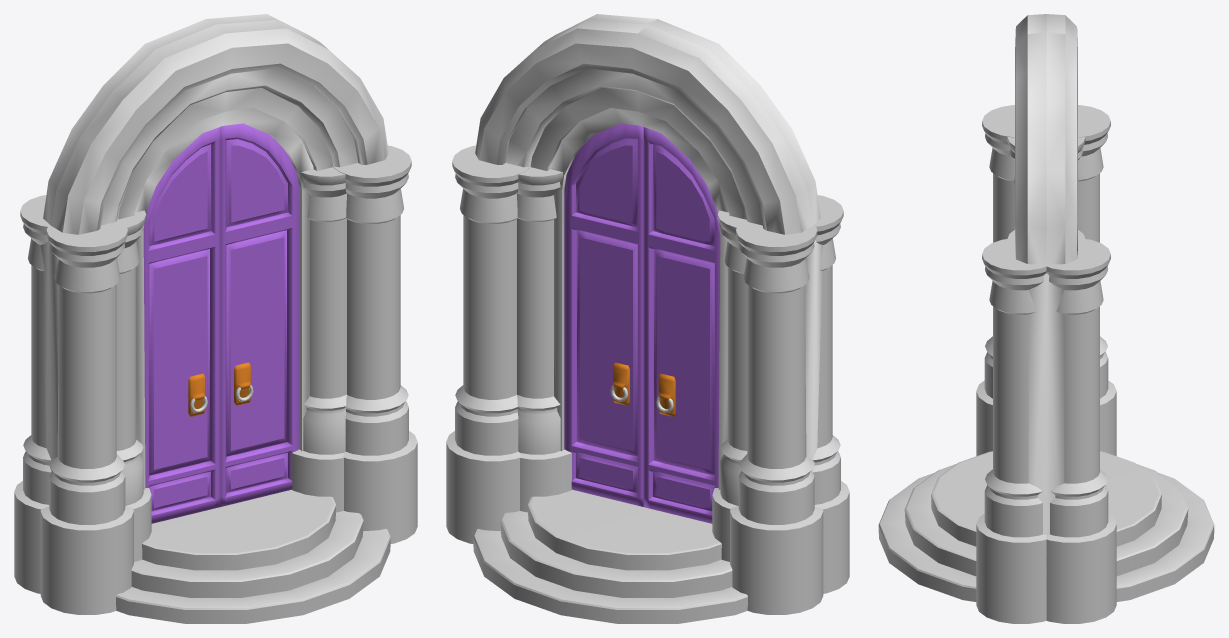
The model's file is Door_Arch_B.fbx.
3 renders of one model, left to right at view 1: azimuth 30°, elevation 25°; view 2: azimuth 150°, elevation 25°; view 3: azimuth 270°, elevation 25°, orthographic. The views are drawn at different scales.
Parts seen in each view (by area): view 1: Pillar_01_Arch_B, Door_Arch_B, Door_L_Arch_B, Door_R_Arch_B, Stair_Arch_B, Pillar_02_Arch_B; view 2: Pillar_01_Arch_B, Door_Arch_B, Door_L_Arch_B, Door_R_Arch_B, Stair_Arch_B, Pillar_02_Arch_B; view 3: Pillar_01_Arch_B, Door_Arch_B, Stair_Arch_B.
Part boxes in pixels (left/top/right/bottom): Pillar_01_Arch_B: left=14, top=145, right=417, bottom=614; Door_Arch_B: left=40, top=14, right=388, bottom=489; Door_L_Arch_B: left=220, top=123, right=299, bottom=506; Door_R_Arch_B: left=143, top=127, right=220, bottom=523; Stair_Arch_B: left=116, top=489, right=390, bottom=623; Pillar_02_Arch_B: left=116, top=167, right=346, bottom=561; Pillar_01_Arch_B: left=446, top=145, right=849, bottom=614; Door_Arch_B: left=475, top=14, right=823, bottom=489; Door_L_Arch_B: left=564, top=123, right=643, bottom=506; Door_R_Arch_B: left=643, top=127, right=720, bottom=523; Stair_Arch_B: left=473, top=489, right=747, bottom=623; Pillar_02_Arch_B: left=517, top=167, right=747, bottom=561; Pillar_01_Arch_B: left=976, top=105, right=1116, bottom=623; Door_Arch_B: left=1015, top=14, right=1077, bottom=534; Stair_Arch_B: left=878, top=451, right=1214, bottom=601.
Size of what is drawn, in the model's own units: 6.51 by 5.42 by 9.02.
